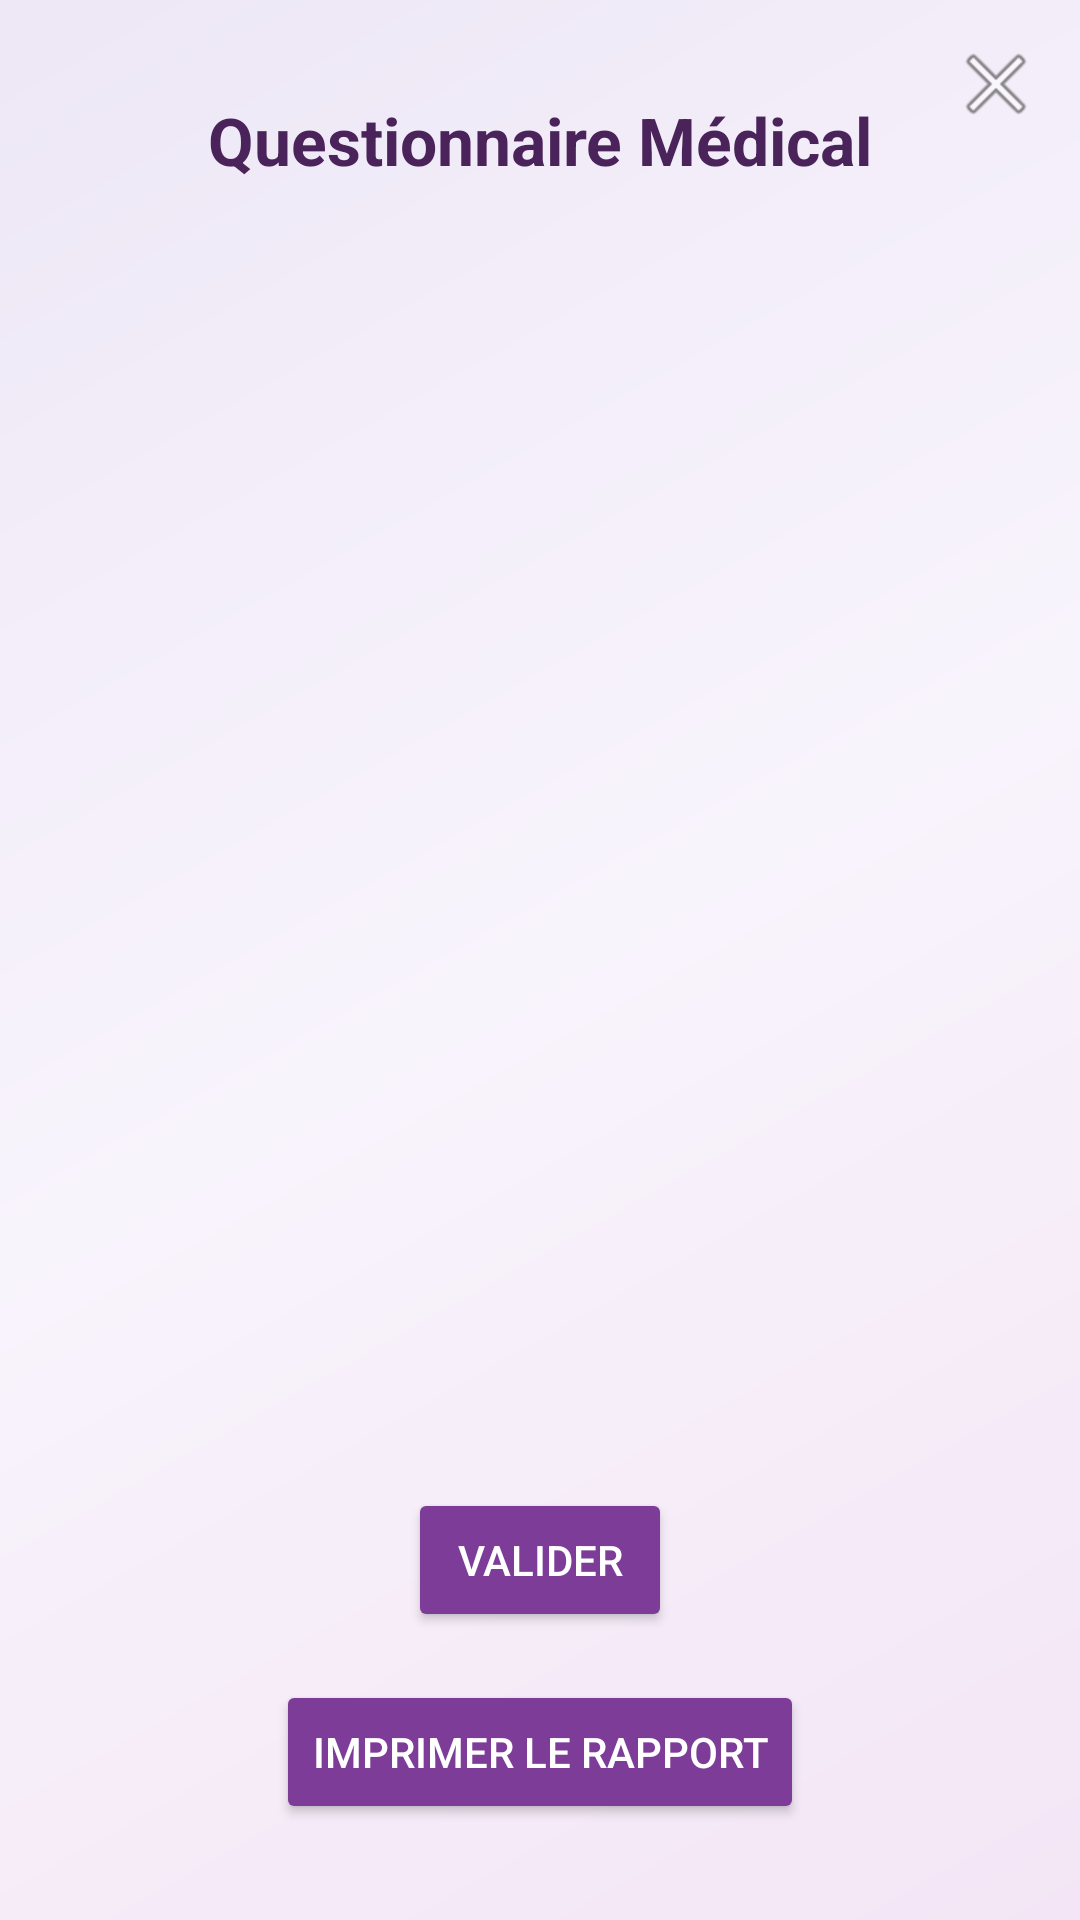

Icon bounding boxes for this 1080*1920 phone screenshot, format bbox=[x1, y1, x2, y2]:
Fermer: bbox=[966, 54, 1026, 114]
